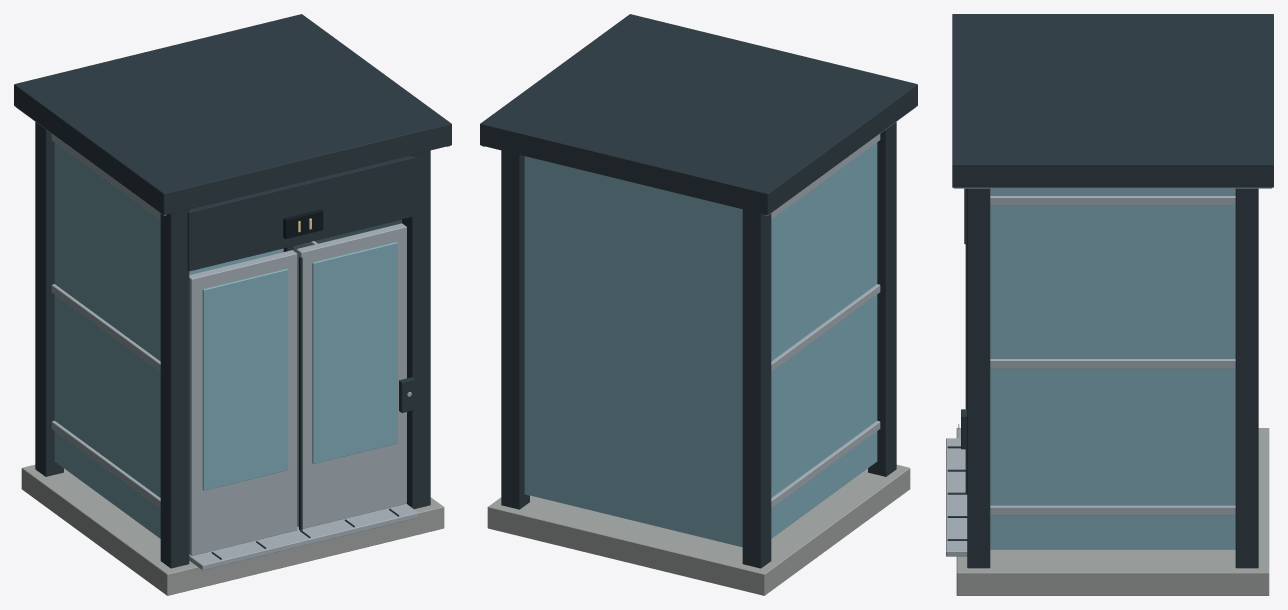
The model's file is b13_transit_elevator_headhouse.glb.
3 views of the same model, side by side, from view 1: azimuth 30°, elevation 25°; view 2: azimuth 150°, elevation 25°; view 3: azimuth 270°, elevation 25° (orthographic). The views are drawn at different scales.
Parts seen in each view (by area): view 1: b13_transit_elevator_headhouse; view 2: b13_transit_elevator_headhouse; view 3: b13_transit_elevator_headhouse.
Part boxes in pixels (left/top/right/bottom): b13_transit_elevator_headhouse: left=14, top=14, right=451, bottom=595; b13_transit_elevator_headhouse: left=480, top=14, right=917, bottom=595; b13_transit_elevator_headhouse: left=946, top=14, right=1273, bottom=595.
Bounding box in the file's own units: 2.34 × 3.14 × 2.15.
